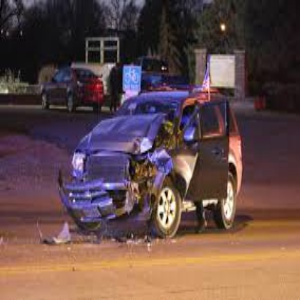bonnet: (87, 113, 162, 155)
bumper: (55, 172, 155, 237)
